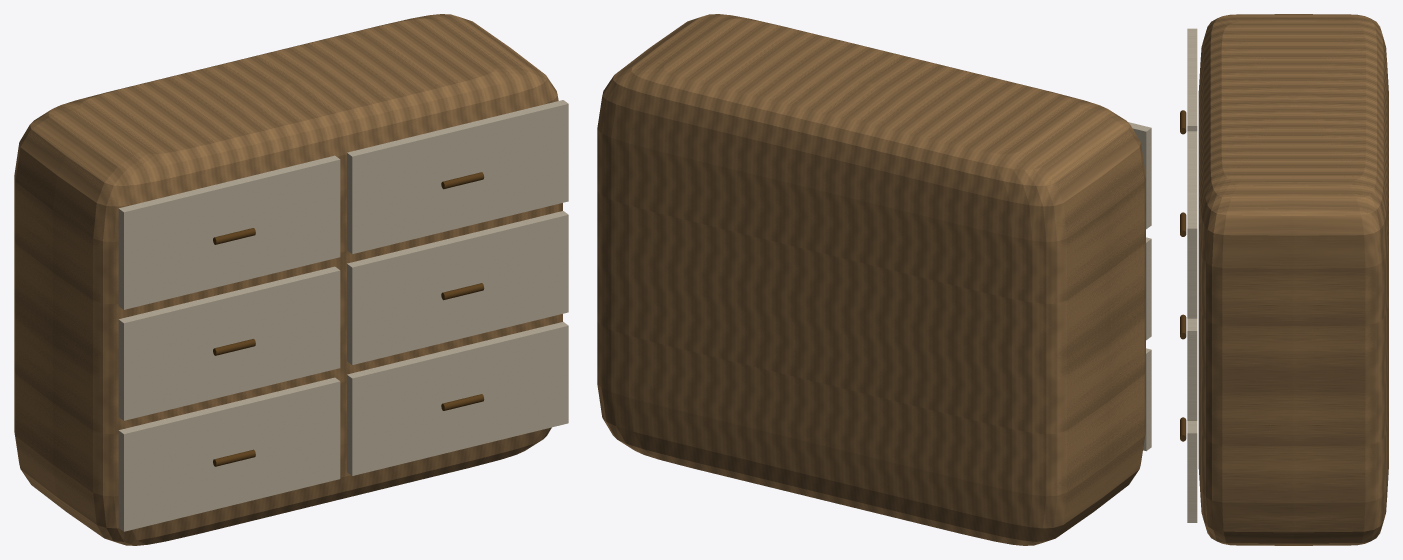
Rendered from dresser-1200.glb.
The picture shows the model from 3 angles, left to right: view 1: azimuth 30°, elevation 25°; view 2: azimuth 150°, elevation 25°; view 3: azimuth 270°, elevation 25°; orthographic projection. The views are drawn at different scales.
Parts seen in each view (by area): view 1: body, drawer_1_1, drawer_2_1, drawer_3_1, drawer_2_2, drawer_3_2, drawer_1_2; view 2: body, drawer_3_1; view 3: body, drawer_3_2, drawer_3_1, drawer_2_2, drawer_1_2.
Part boxes in pixels (x1,y1,x2,y2): body: (14, 14, 562, 545); drawer_1_1: (118, 377, 340, 531); drawer_2_1: (118, 266, 340, 420); drawer_3_1: (118, 155, 340, 309); drawer_2_2: (347, 211, 568, 364); drawer_3_2: (347, 100, 568, 254); drawer_1_2: (347, 321, 568, 475); body: (597, 14, 1145, 545); drawer_3_1: (1128, 122, 1151, 229); body: (1198, 14, 1388, 545); drawer_3_2: (1187, 131, 1197, 318); drawer_3_1: (1187, 28, 1197, 131); drawer_2_2: (1187, 318, 1197, 420); drawer_1_2: (1187, 421, 1197, 522).
Size of the model in its own units: 1.2 by 0.95 by 0.5.
3 materials, 3 textured.
